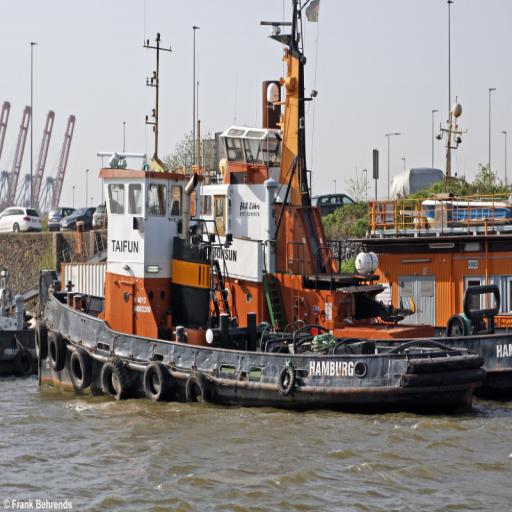tugboat: (34, 33, 487, 429)
